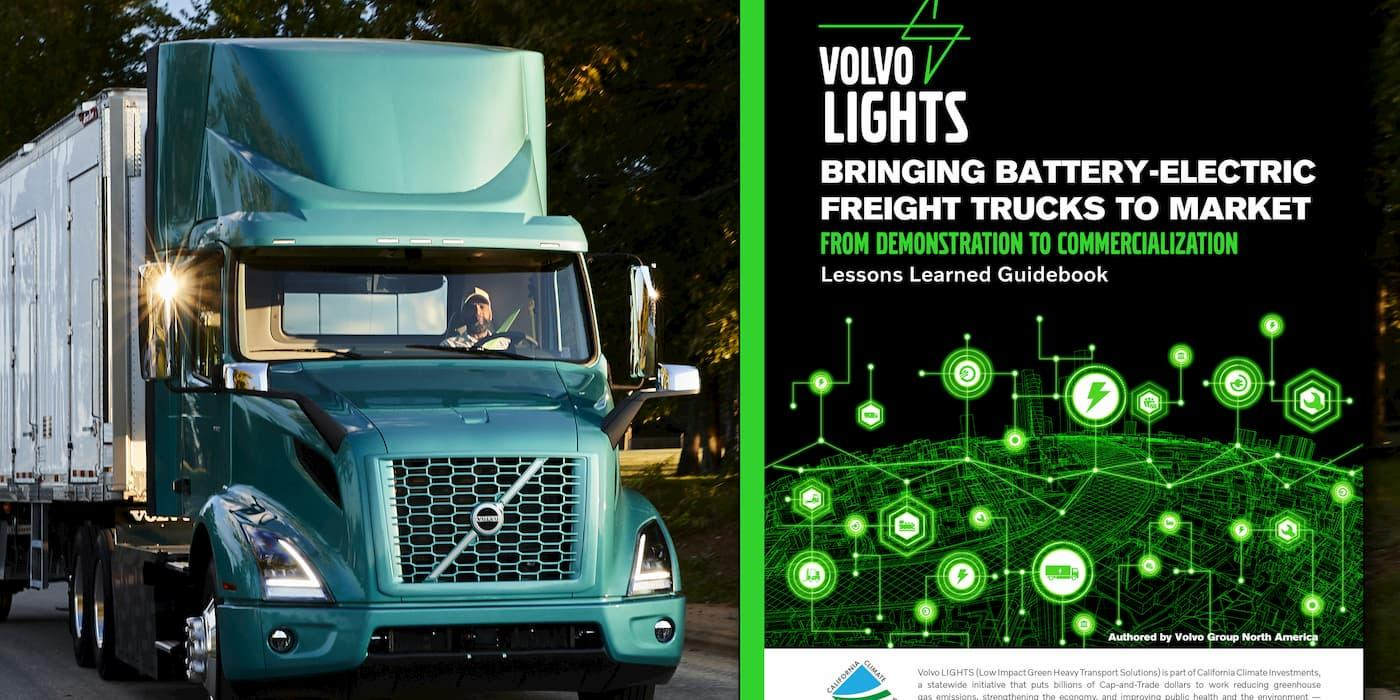truck: (1, 38, 698, 700)
